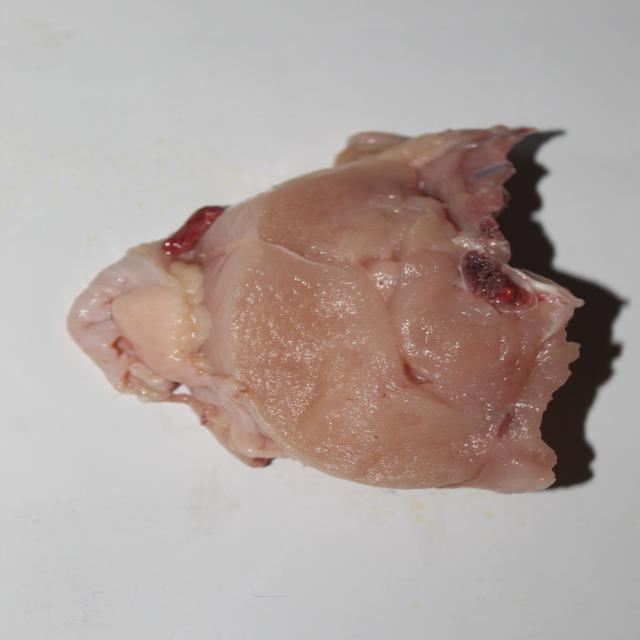chicken: (67, 128, 579, 494)
